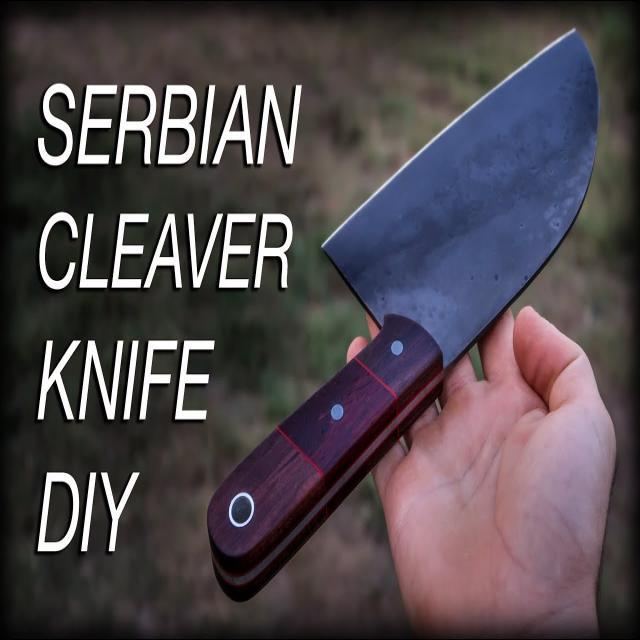cleaver: (207, 24, 603, 608)
